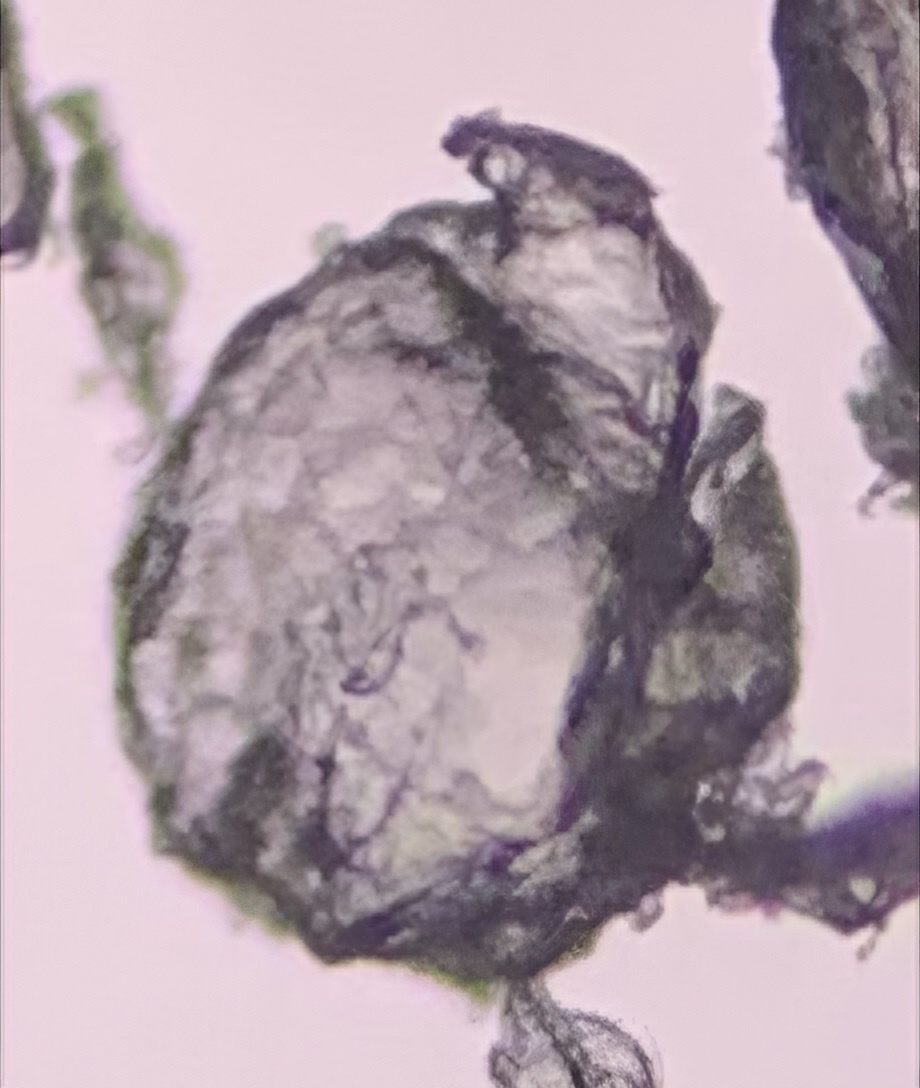microplastic: (116, 109, 918, 1088), (755, 1, 920, 518), (58, 90, 174, 468), (1, 3, 61, 268)
